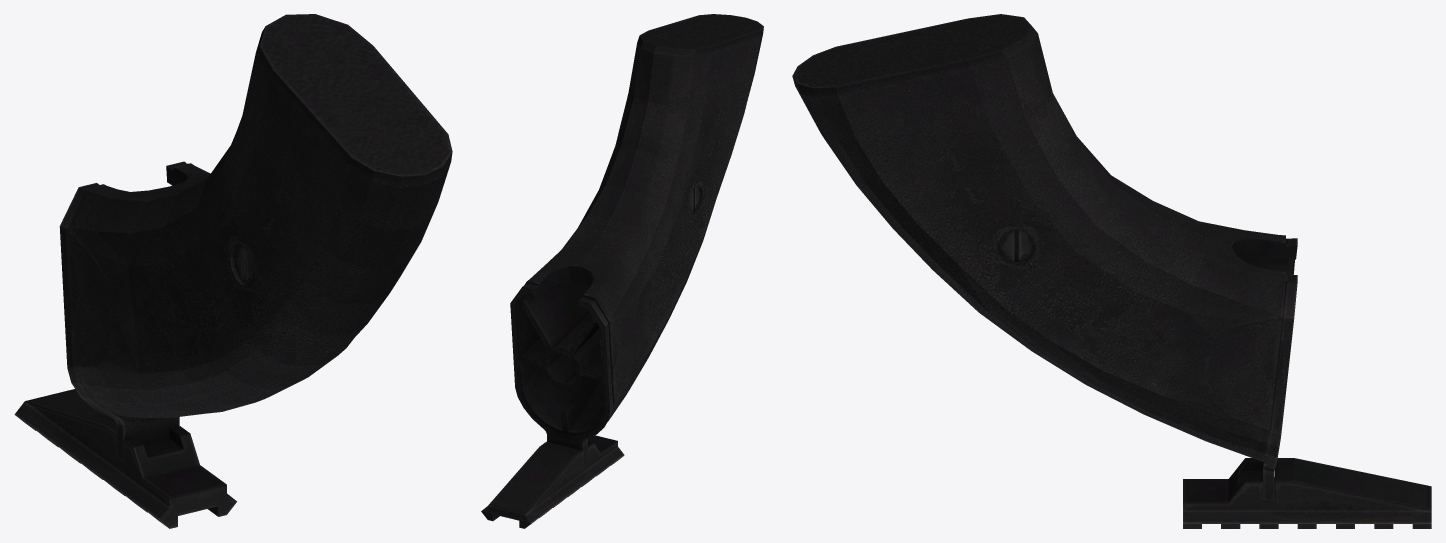
The picture shows the model from 3 angles, left to right: view 1: azimuth 30°, elevation 25°; view 2: azimuth 150°, elevation 25°; view 3: azimuth 270°, elevation 25°; orthographic projection. The views are drawn at different scales.
Parts seen in each view (by area): view 1: TW_56083a334bdc2dc8488b4571_PZ_Import; view 2: TW_56083a334bdc2dc8488b4571_PZ_Import; view 3: TW_56083a334bdc2dc8488b4571_PZ_Import.
Boxes of the visible parts, x1,y1,x2,y2 form: TW_56083a334bdc2dc8488b4571_PZ_Import: (14,14,452,528); TW_56083a334bdc2dc8488b4571_PZ_Import: (481,14,763,528); TW_56083a334bdc2dc8488b4571_PZ_Import: (792,14,1431,528).
Size of the model in its own units: 0.0186 by 0.0812 by 0.0688.
Materials: 1 (1 with a texture image).
